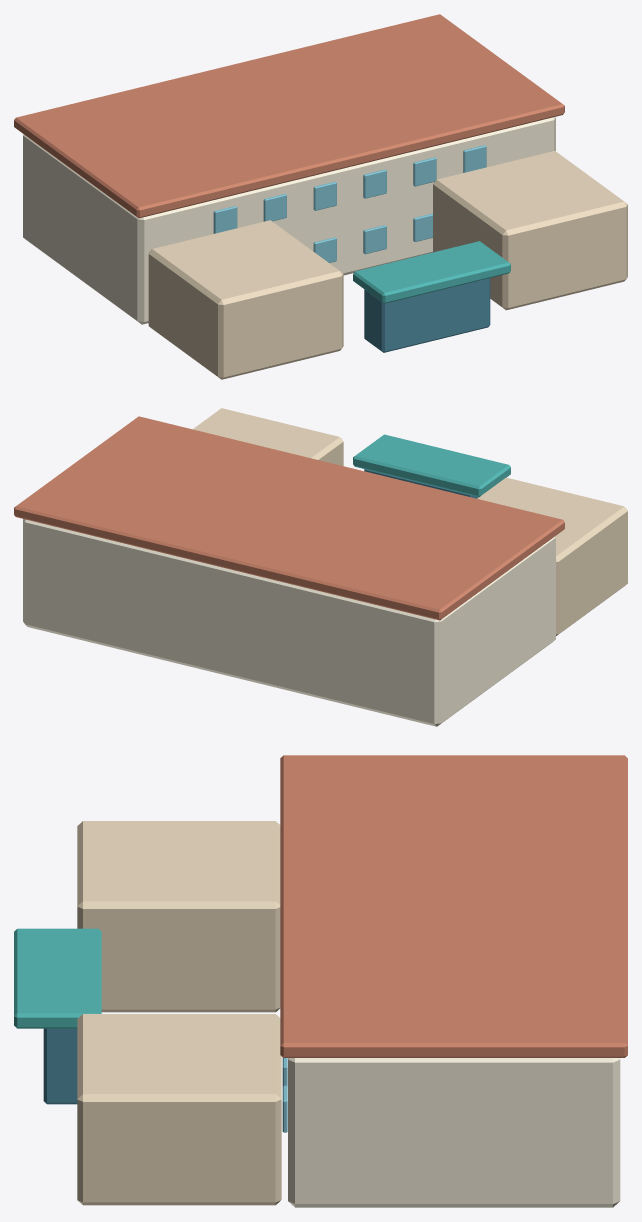
The model's file is EDU_SCHOOL_3x3_001.glb.
3 renders of one model, top to bottom at view 1: azimuth 30°, elevation 25°; view 2: azimuth 150°, elevation 25°; view 3: azimuth 270°, elevation 25°, orthographic. The views are drawn at different scales.
Parts seen in each view (by area): view 1: EDU_SCHOOL_3x3_001_Visual; view 2: EDU_SCHOOL_3x3_001_Visual; view 3: EDU_SCHOOL_3x3_001_Visual.
Part boxes in pixels (<box>): EDU_SCHOOL_3x3_001_Visual: <box>14,14,627,379</box>; EDU_SCHOOL_3x3_001_Visual: <box>14,408,627,726</box>; EDU_SCHOOL_3x3_001_Visual: <box>14,755,627,1207</box>.
Size of what is drawn, in the model's own units: 5.32 by 1.45 by 4.76.
